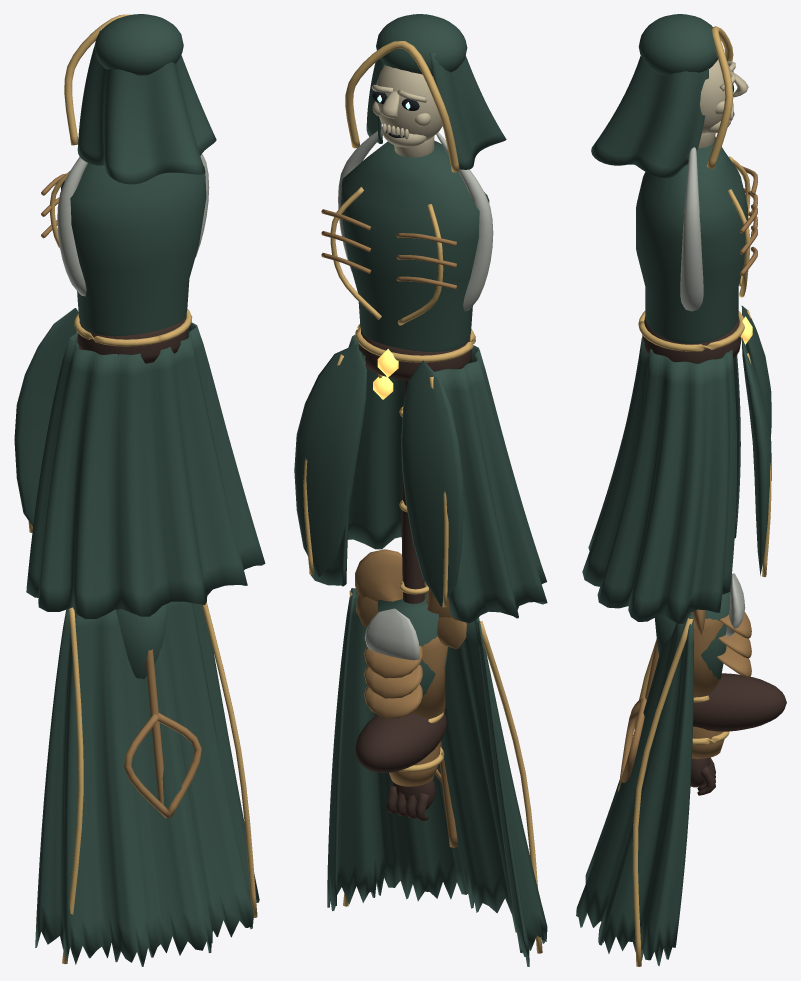
File: hexer.glb
The picture shows the model from 3 angles, left to right: view 1: azimuth 30°, elevation 25°; view 2: azimuth 150°, elevation 25°; view 3: azimuth 270°, elevation 25°; orthographic projection. The views are drawn at different scales.
Visible parts, largest first — view 1: Body__sage, Cape__sage, Cape__gold, Cape__bronze, Body__gold, Weapon__silver, LegL__sage, Body__leather; view 2: Body__sage, Cape__sage, Body__gold, KneeL__bronze, Body__bone, KneeL__leather, Weapon__silver, ArmR__bronze, KneeL__silver, ArmL__bronze, Cape__gold, Body__bronze (+5 smaller); view 3: Body__sage, Cape__sage, KneeL__leather, Body__gold, KneeL__bronze, Weapon__silver, Cape__gold, Body__bone, LegL__sage, Body__leather, Cape__bronze, Body__bronze (+3 smaller).
Boxes of the visible parts, box(x1,y1,x2,y2) form: Body__sage: box(14, 14, 265, 618); Cape__sage: box(35, 601, 259, 966); Cape__gold: box(62, 602, 257, 963); Cape__bronze: box(124, 649, 201, 818); Body__gold: box(28, 14, 192, 532); Weapon__silver: box(57, 153, 209, 296); LegL__sage: box(116, 603, 167, 679); Body__leather: box(77, 314, 188, 363); Body__sage: box(294, 14, 547, 623); Cape__sage: box(327, 588, 547, 966); Body__gold: box(303, 41, 475, 607); KneeL__bronze: box(364, 636, 447, 718); Body__bone: box(371, 65, 442, 157); KneeL__leather: box(355, 712, 446, 772); Weapon__silver: box(338, 127, 493, 311); ArmR__bronze: box(355, 549, 402, 626); KneeL__silver: box(364, 608, 419, 660); ArmL__bronze: box(389, 588, 466, 786); Cape__gold: box(343, 590, 542, 953); Body__bronze: box(321, 209, 456, 289); Body__sage: box(582, 14, 771, 623); Cape__sage: box(576, 614, 693, 966); KneeL__leather: box(693, 673, 786, 731); Body__gold: box(638, 26, 771, 577); KneeL__bronze: box(693, 612, 751, 697); Weapon__silver: box(680, 147, 703, 311); Cape__gold: box(632, 618, 693, 966); Body__bone: box(698, 59, 748, 148); LegL__sage: box(655, 589, 730, 679); Body__leather: box(642, 317, 741, 363); Cape__bronze: box(618, 639, 658, 791); Body__bronze: box(740, 166, 757, 275).
Size of the model in its own units: 0.8228 by 3.19 by 0.6772.
